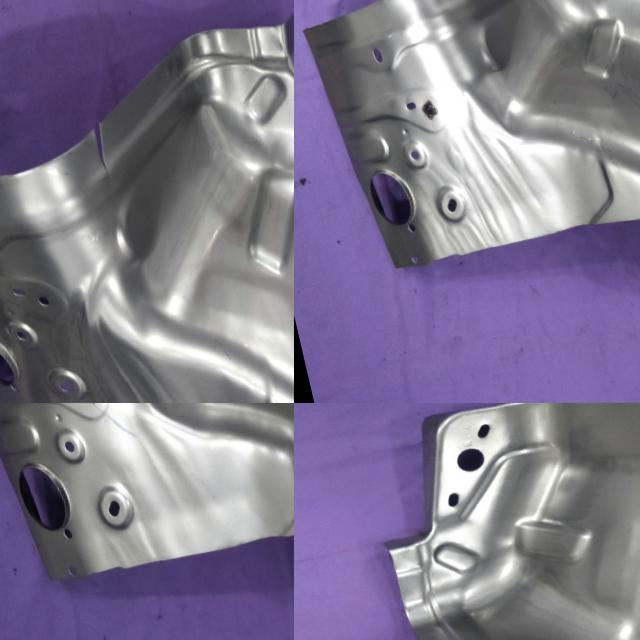Defect: (75, 100, 127, 189)
Healthy: (294, 0, 640, 297), (337, 403, 640, 640), (0, 403, 294, 624)
